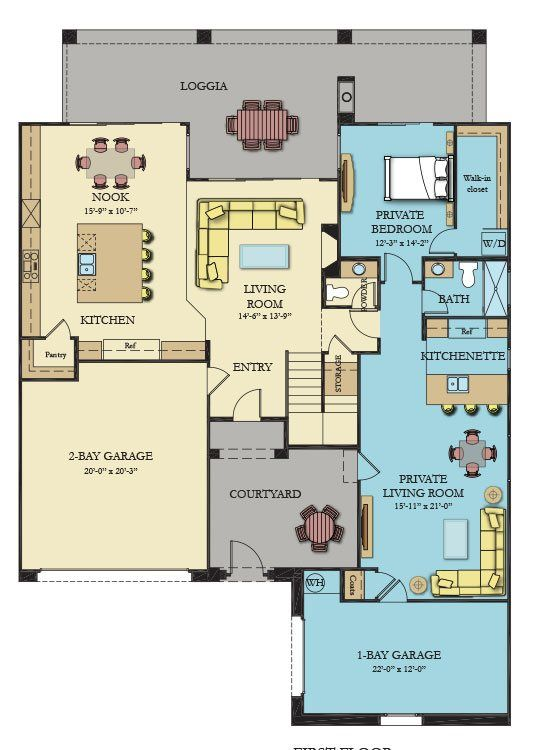door: (345, 309, 375, 343), (226, 537, 263, 564), (231, 387, 266, 414), (379, 569, 409, 598), (361, 450, 387, 482), (381, 248, 409, 277), (426, 284, 451, 315), (210, 365, 232, 400), (423, 230, 451, 253), (45, 317, 71, 337), (326, 329, 352, 349)
room: (354, 348, 511, 606), (17, 120, 191, 341), (205, 416, 361, 571), (336, 118, 459, 263), (419, 118, 515, 260), (419, 255, 511, 320), (319, 254, 382, 309), (15, 335, 81, 384)
